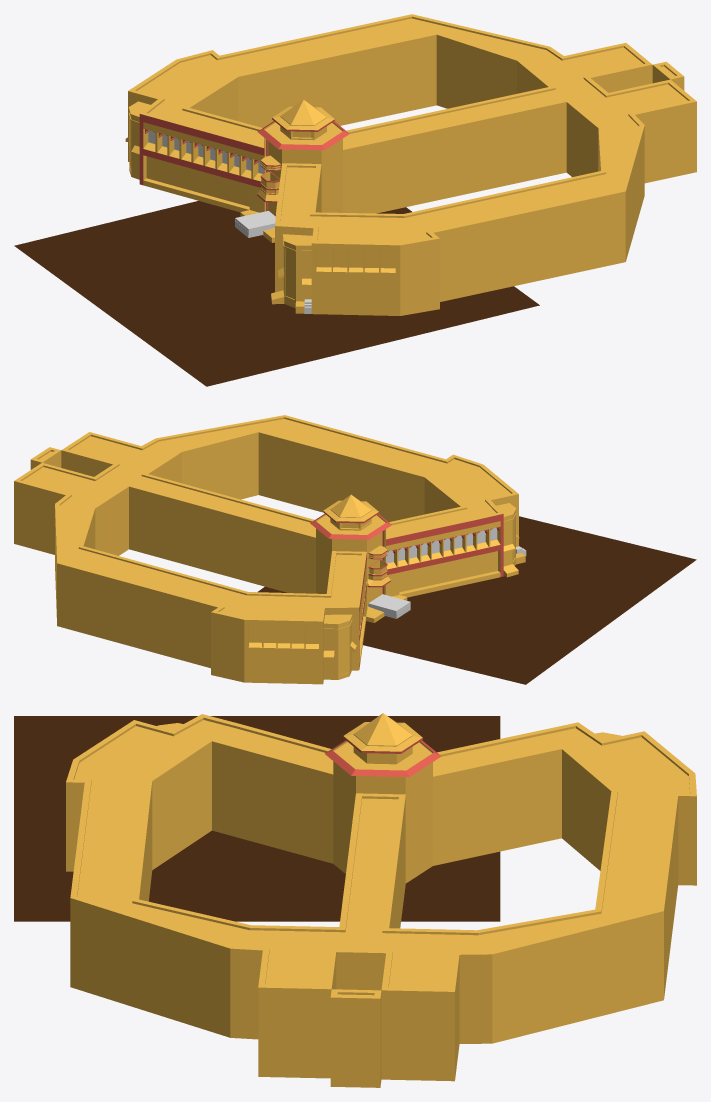
The model's file is Academic_Block11.fbx.
The picture shows the model from 3 angles, top to bottom: view 1: azimuth 30°, elevation 25°; view 2: azimuth 150°, elevation 25°; view 3: azimuth 270°, elevation 25°; orthographic projection. The views are drawn at different scales.
Parts seen in each view (by area): view 1: Academic Block, Plane, Cube.003; view 2: Academic Block, Plane, Cube.003; view 3: Academic Block, Plane.
Boxes of the visible parts, x1=… form: Academic Block: x1=125, y1=14, x2=696, y2=315; Plane: x1=14, y1=201, x2=539, y2=386; Cube.003: x1=235, y1=211, x2=275, y2=235; Academic Block: x1=14, y1=415, x2=525, y2=684; Plane: x1=257, y1=516, x2=696, y2=684; Cube.003: x1=368, y1=594, x2=410, y2=616; Academic Block: x1=66, y1=713, x2=696, y2=1087; Plane: x1=14, y1=716, x2=500, y2=921.
Size of what is drawn, in the model's own units: 6317 by 1207 by 4892.
